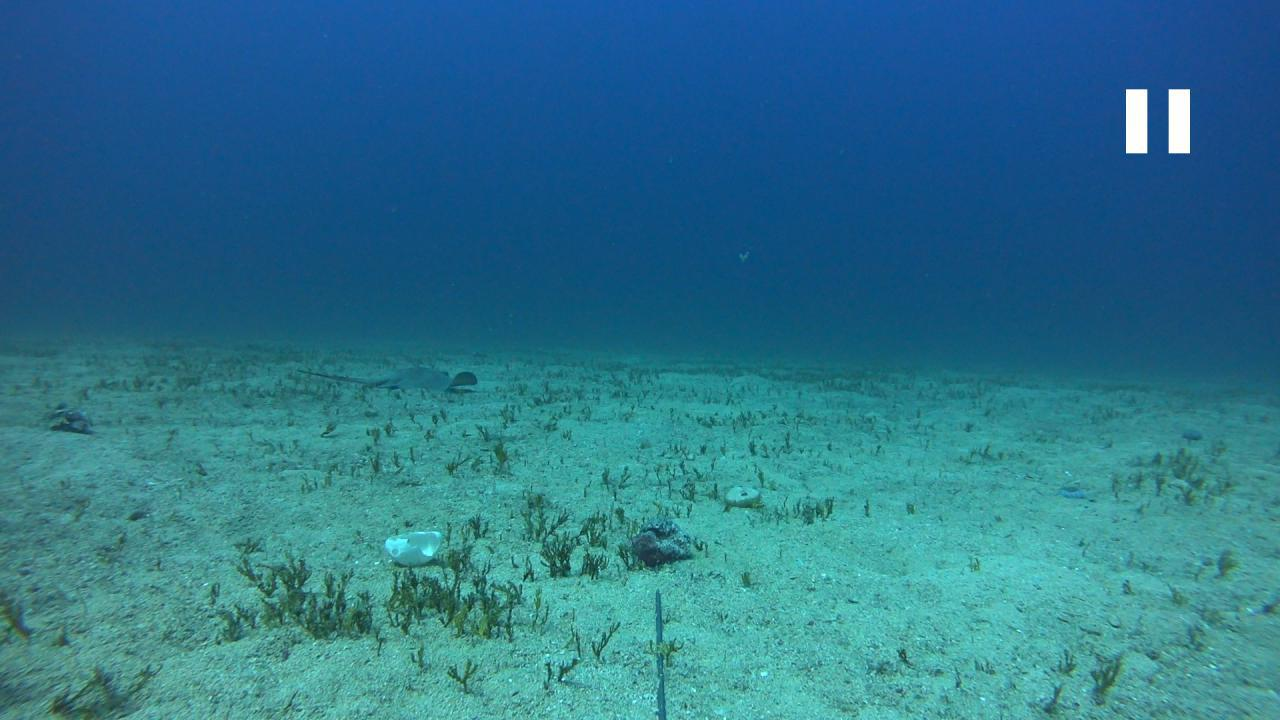dasyatis: (297, 365, 477, 389)
